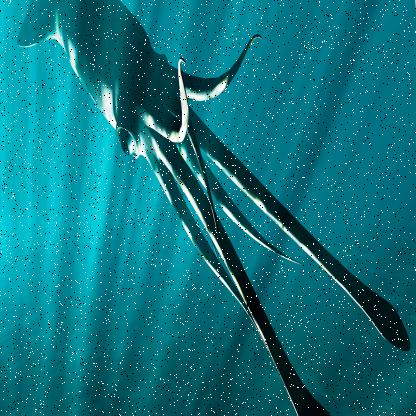colossal_squid: (10, 12, 412, 411)
